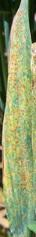Wheat: (8, 107, 36, 193)
